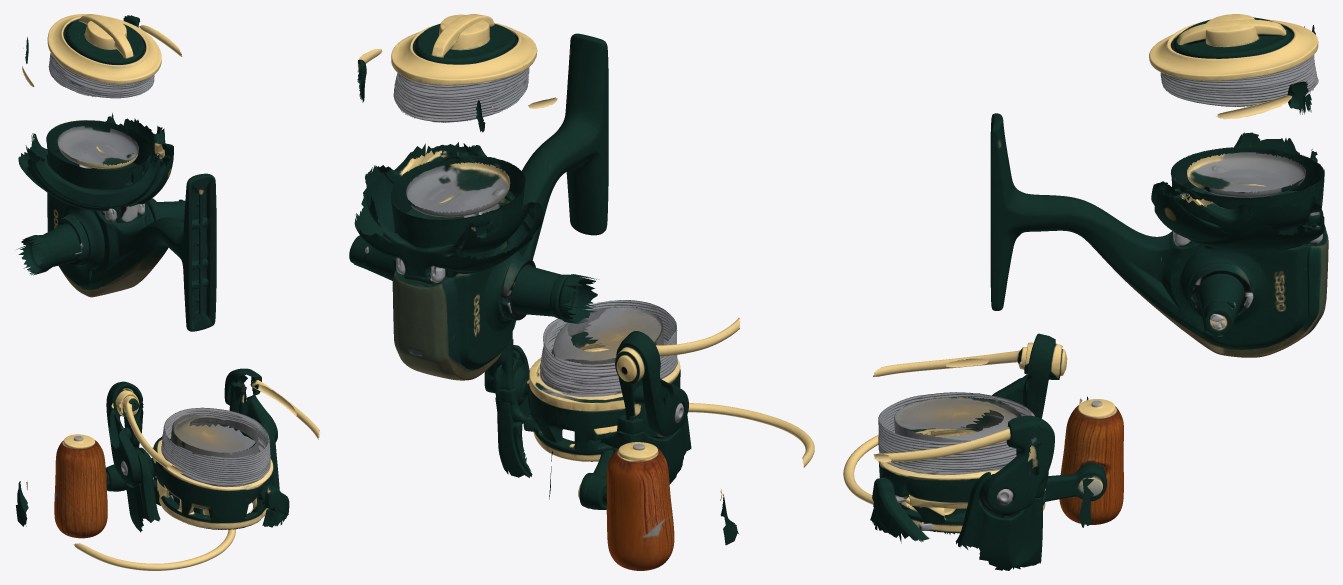
File: small_fjordline.glb
The picture shows the model from 3 angles, left to right: view 1: azimuth 30°, elevation 25°; view 2: azimuth 150°, elevation 25°; view 3: azimuth 270°, elevation 25°; orthographic projection. The views are drawn at different scales.
Parts seen in each view (by area): view 1: Body, Rotor, Crank, Bail; view 2: Body, Rotor, Crank, Bail; view 3: Body, Rotor, Crank, Bail.
Boxes of the visible parts, <box> form: Body: <box>16,14,216,331</box>; Rotor: <box>106,368,320,532</box>; Crank: <box>54,434,209,538</box>; Bail: <box>16,475,235,570</box>; Body: <box>349,14,608,380</box>; Rotor: <box>484,274,740,484</box>; Crank: <box>578,432,674,570</box>; Bail: <box>549,403,814,545</box>; Body: <box>990,14,1328,357</box>; Rotor: <box>870,333,1067,570</box>; Crank: <box>944,399,1123,534</box>; Bail: <box>843,396,1094,527</box>.
Bounding box in the file's own units: 0.1053 × 0.1868 × 0.1505.
Materials: 1 (1 with a texture image).
